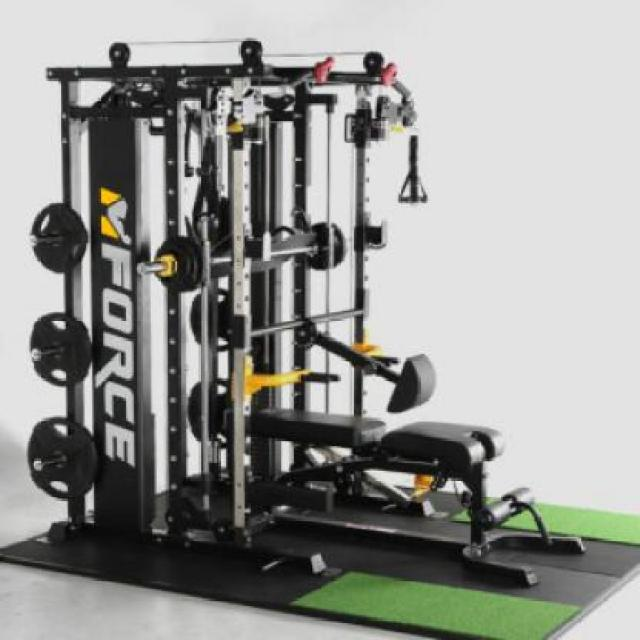smith machine: (30, 39, 452, 586)
